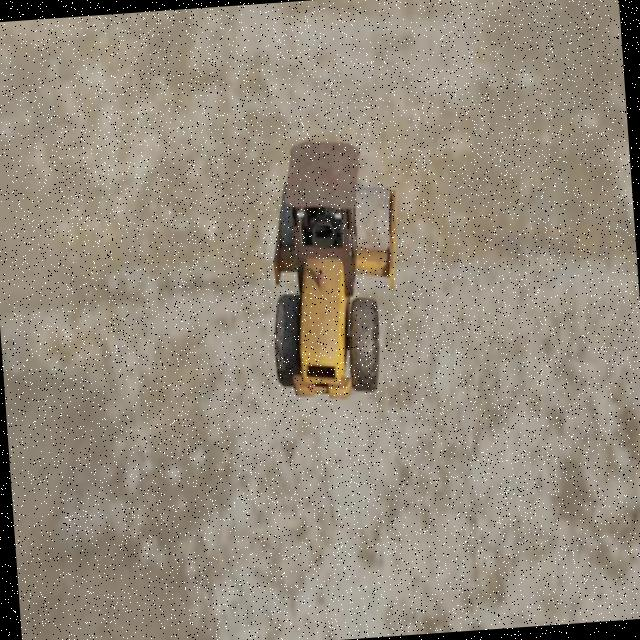Roller: (259, 132, 409, 404)
